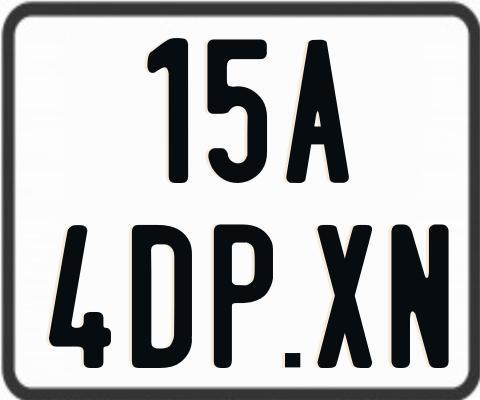1: (144, 35, 188, 184)
4: (49, 225, 113, 371)
5: (205, 36, 267, 181)
A: (284, 40, 353, 184)
D: (130, 224, 194, 367)
N: (388, 221, 447, 371)
P: (213, 224, 272, 374)
X: (314, 225, 369, 371)
